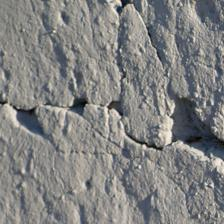Crack: (29, 69, 91, 152), (100, 59, 134, 132)
